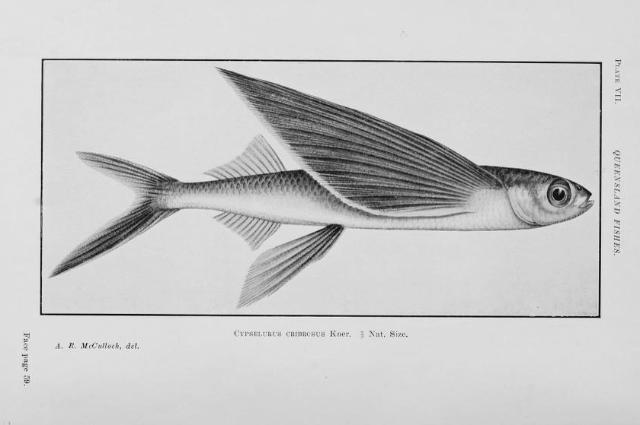Mulut: (568, 179, 612, 227)
Sirip Anal: (201, 129, 297, 263)
Sirip Dada: (207, 54, 511, 225), (228, 216, 356, 312)
Sirip Ekor: (44, 141, 188, 290)
